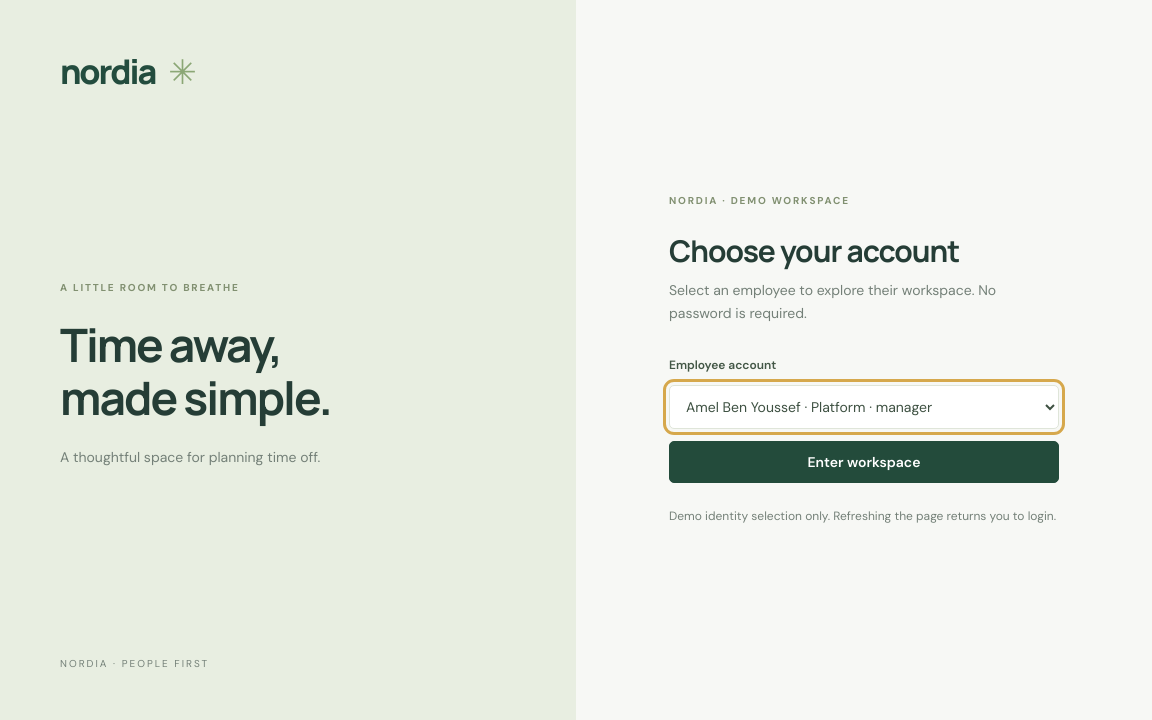
requires a comment and updates the list after approval and rejection
Earlier steps of the test are not shown.
Click the button "Enter workspace". click: (864, 462)
box: [669,441,1059,483]
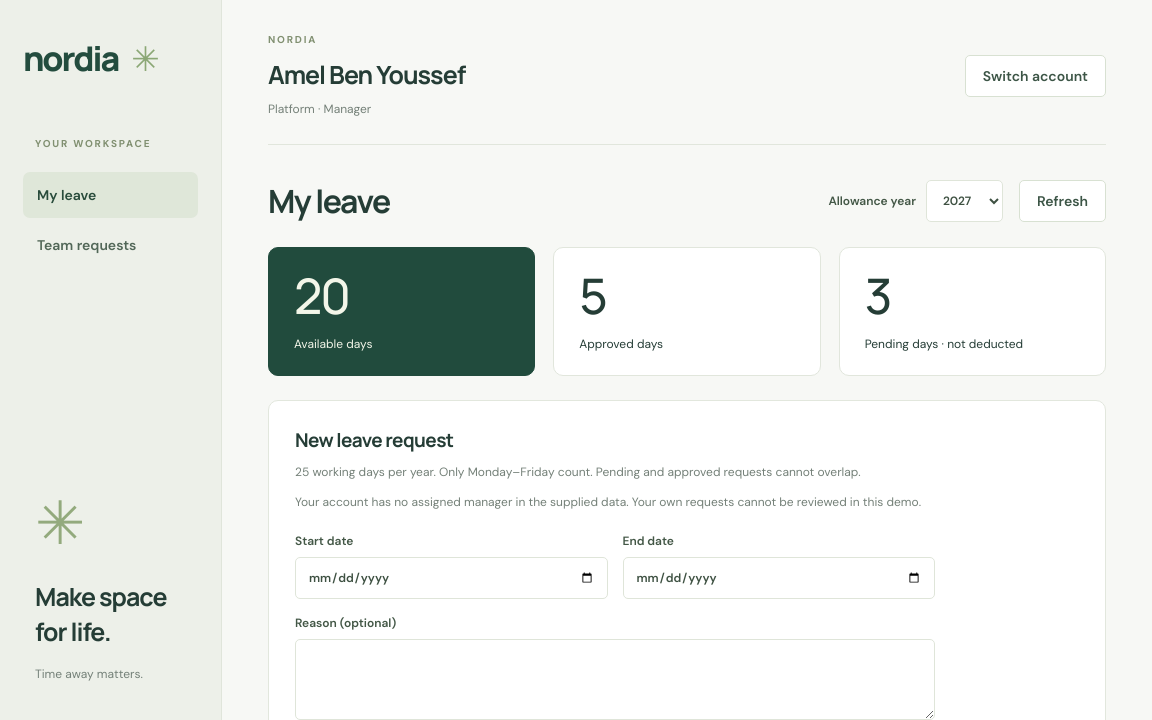
Expected: the text "Available days" is shown, [294,336,372,352]
Click the link "Team requests". click: (87, 244)
box: [37,236,136,254]
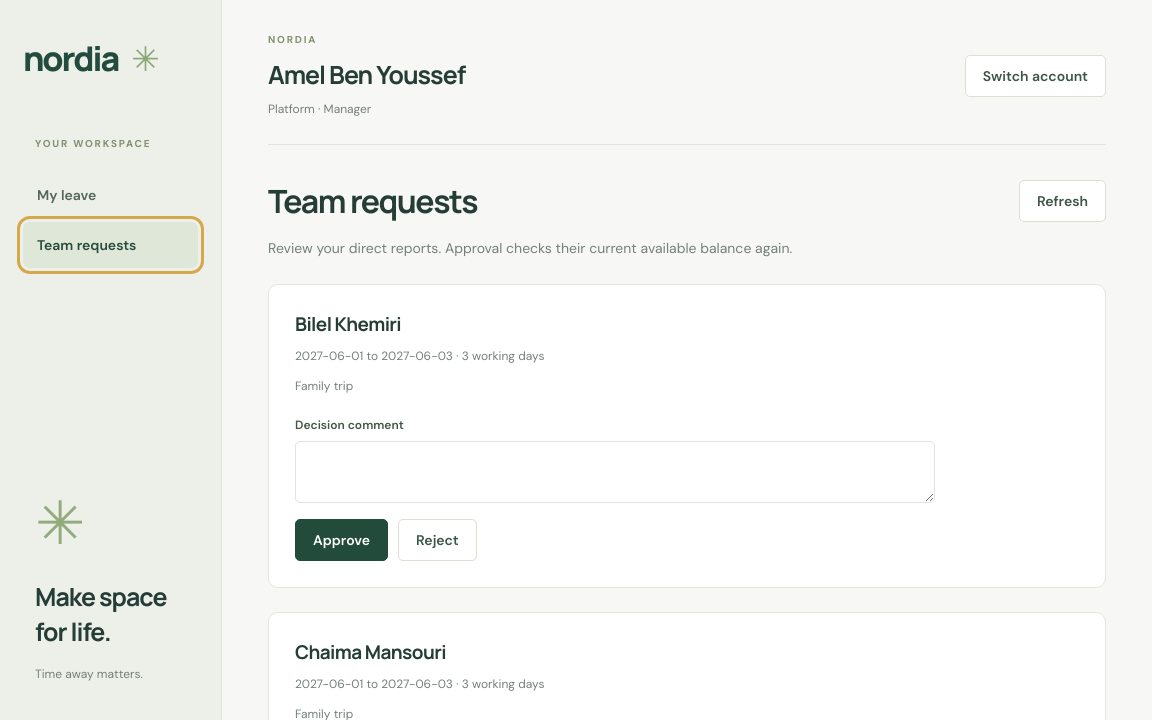
Expected: the heading "Bilel Khemiri" is shown, [295,311,401,337]
Click the button "Approve". click: (342, 540)
box: [295,519,388,561]
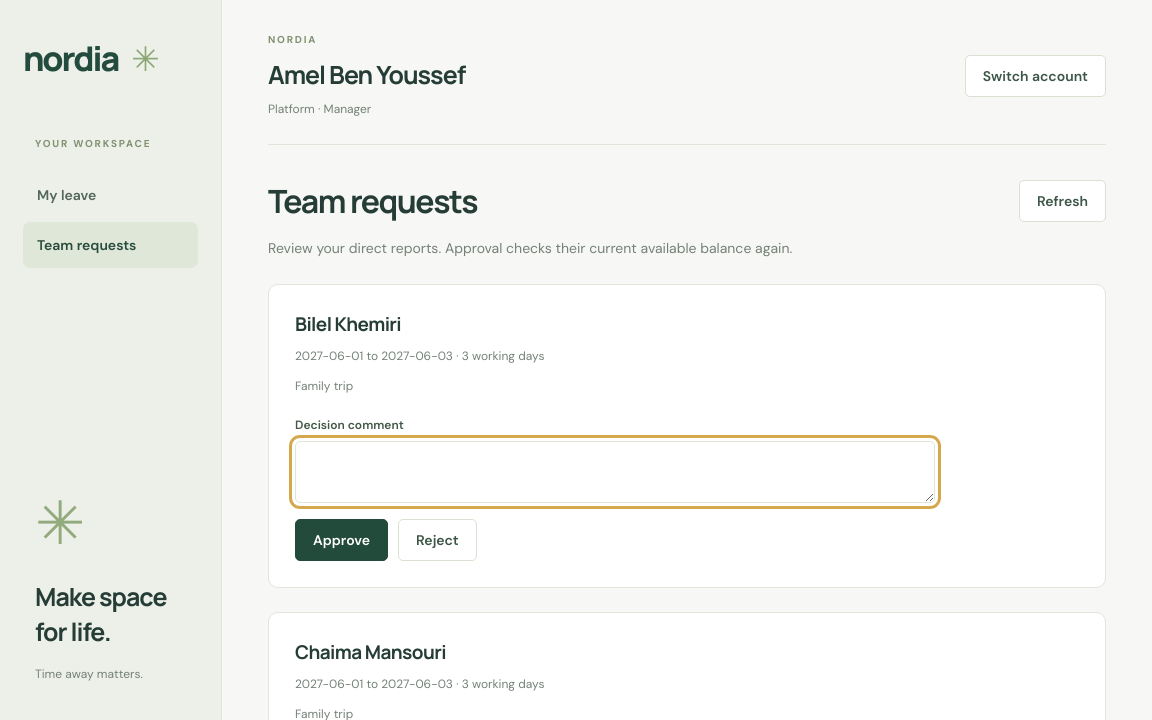
Type "Reviewed availability" into the text box labelled "Decision comment". click: (615, 472)
box: [295,441,935,503]
Click the button "Approve". click: (342, 540)
box: [295,519,388,561]
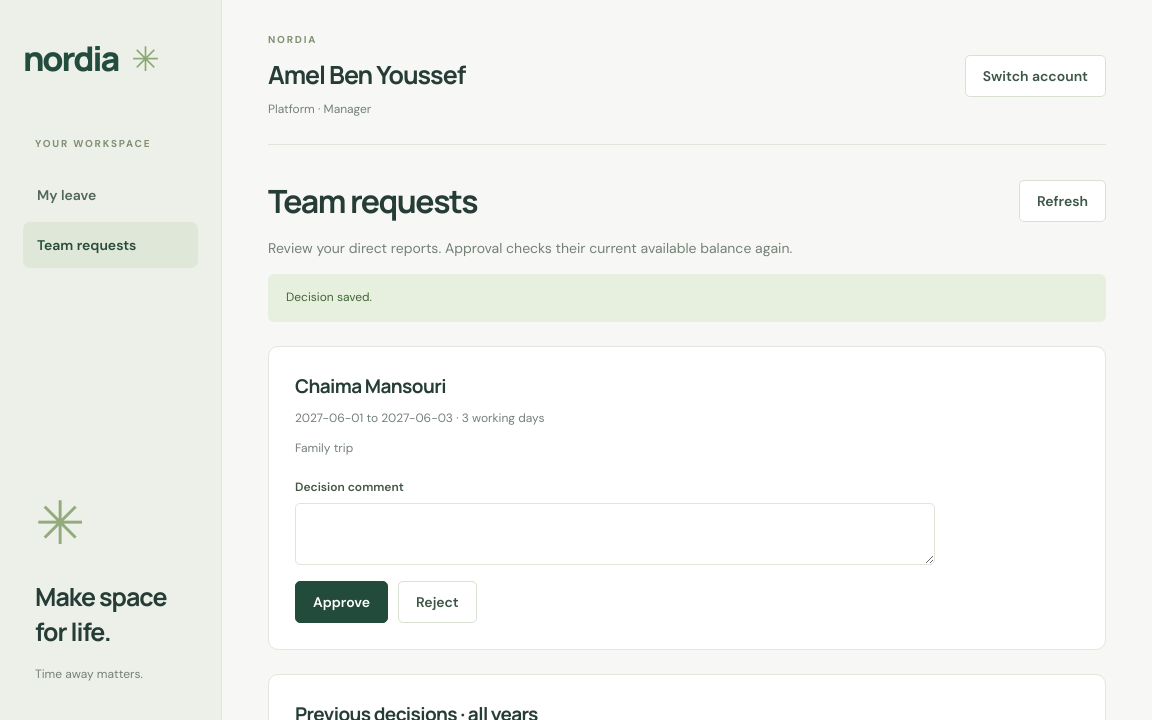
Expected: the heading "Bilel Khemiri" is not shown
Click the button "Reject". click: (437, 602)
box: [398,581,477,623]
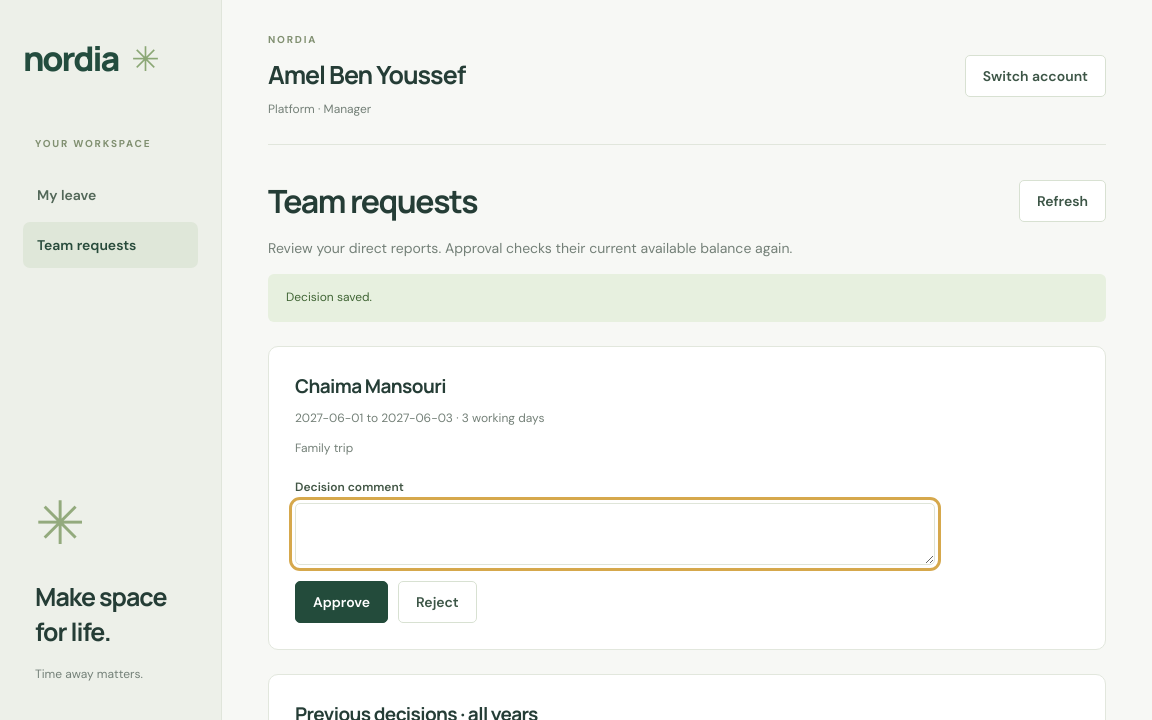
Type "Reviewed availability" into the text box labelled "Decision comment". click: (615, 534)
box: [295,503,935,565]
Click the button "Reject". click: (437, 602)
box: [398,581,477,623]
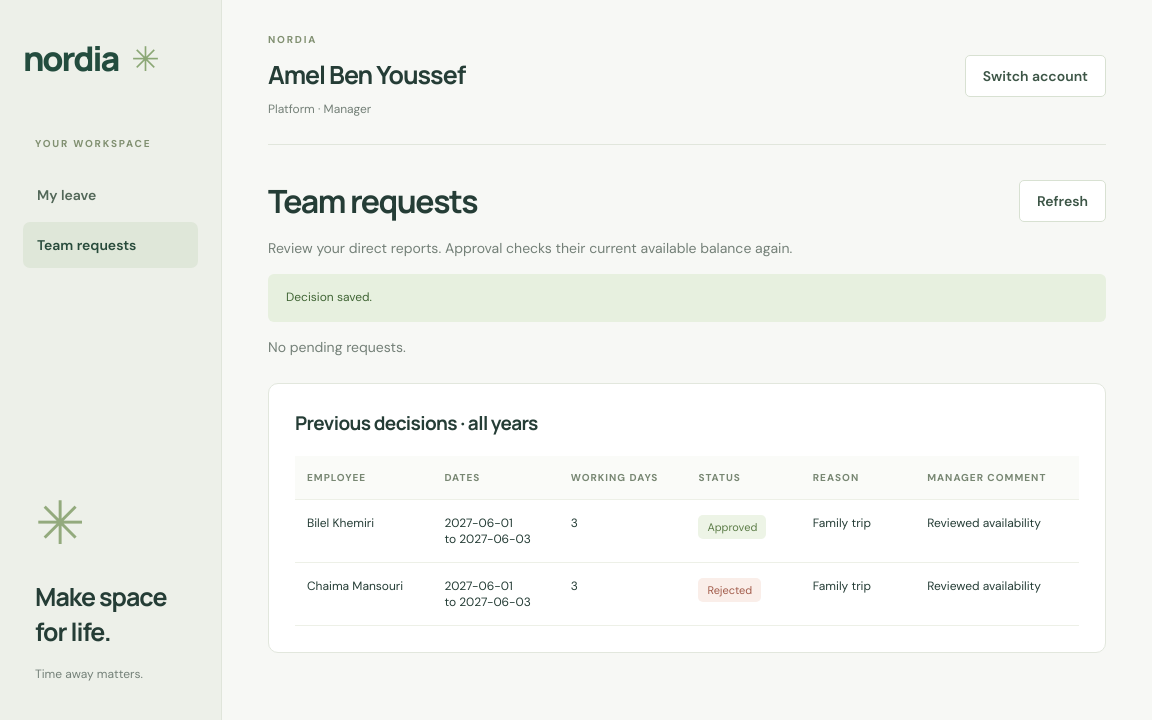
Expected: the cell "rejected" is shown, [686,563,801,626]
Expected: the text "No pending requests." is shown, [268,338,406,356]
